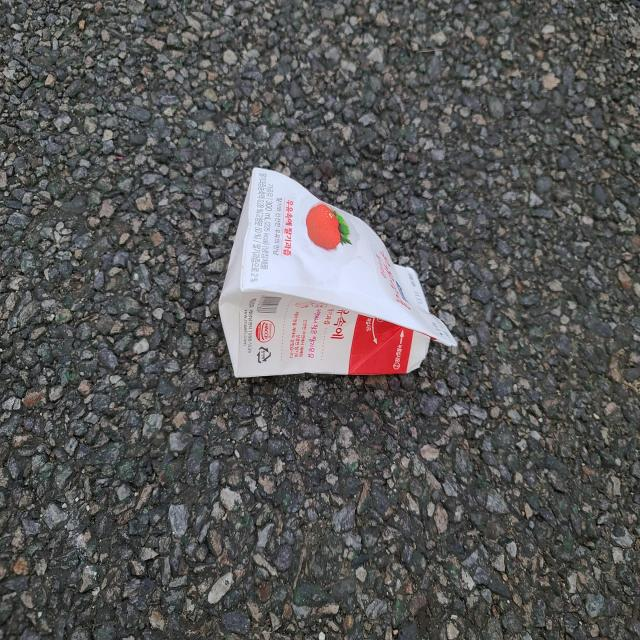paperpack: (219, 167, 458, 377)
